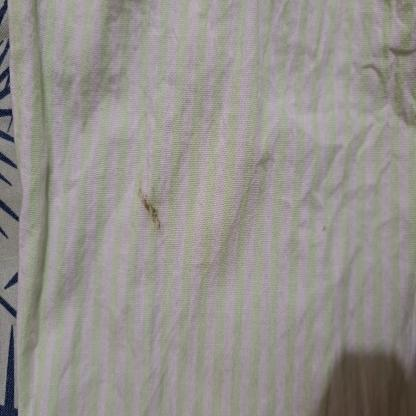spot: (132, 173, 169, 239)
